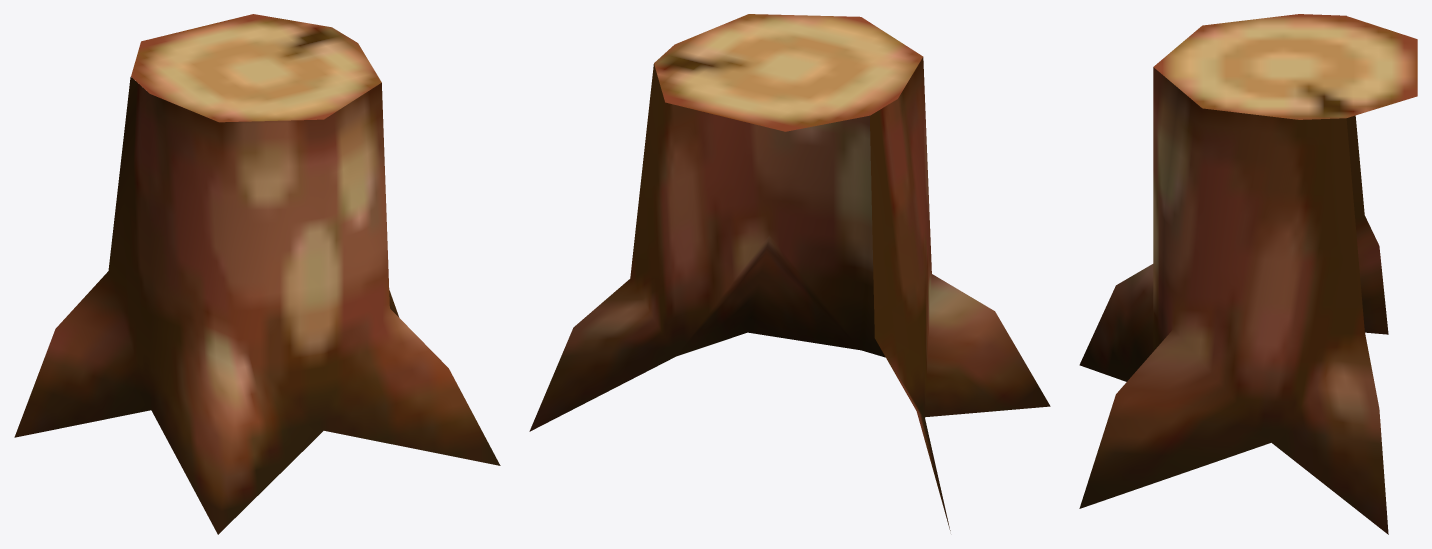
The model's file is fg_treeB_2_b.dae.
3 renders of one model, left to right at view 1: azimuth 30°, elevation 25°; view 2: azimuth 150°, elevation 25°; view 3: azimuth 270°, elevation 25°, orthographic. The views are drawn at different scales.
Parts seen in each view (by area): view 1: fg_treeB_2_b; view 2: fg_treeB_2_b; view 3: fg_treeB_2_b.
Part boxes in pixels (left/top/right/bottom): fg_treeB_2_b: left=14, top=14, right=500, bottom=534; fg_treeB_2_b: left=529, top=14, right=1050, bottom=530; fg_treeB_2_b: left=1079, top=14, right=1417, bottom=534.
Size of the model in its own units: 17.01 by 14.66 by 12.14.
Materials: 1 (1 with a texture image).
